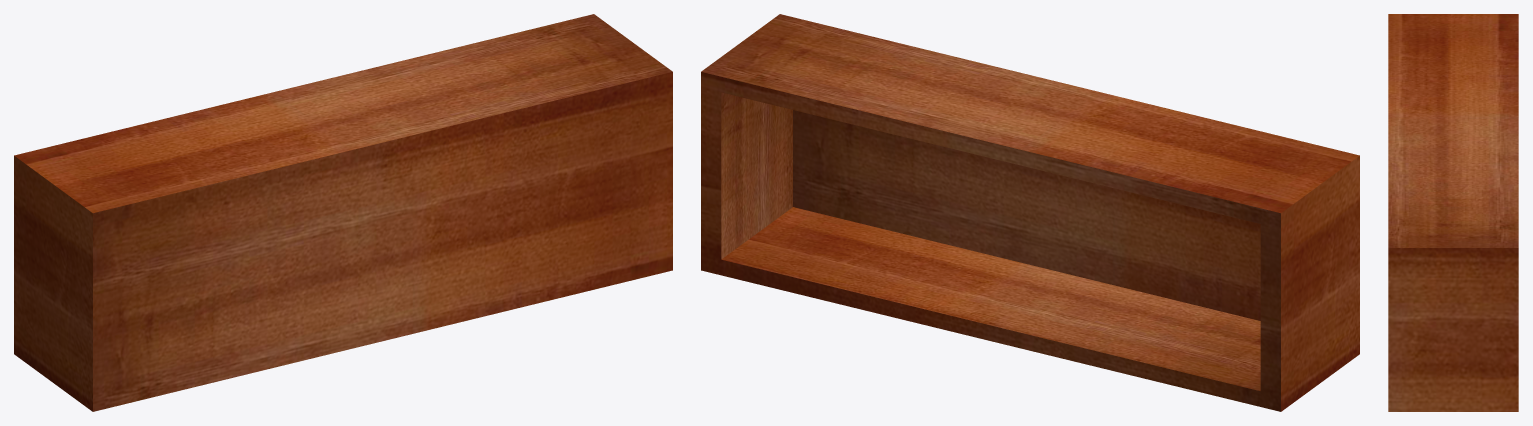
Rendered from Shelf1.fbx.
3 renders of one model, left to right at view 1: azimuth 30°, elevation 25°; view 2: azimuth 150°, elevation 25°; view 3: azimuth 270°, elevation 25°, orthographic. The views are drawn at different scales.
Visible parts, largest first — view 1: Cube.041; view 2: Cube.041; view 3: Cube.041.
Part boxes in pixels (x1=…): Cube.041: x1=14, y1=14, x2=672, y2=411; Cube.041: x1=701, y1=14, x2=1359, y2=411; Cube.041: x1=1388, y1=14, x2=1518, y2=411.
Bounding box in the file's own units: 216 × 70.69 × 50.91.
1 material, 1 textured.
